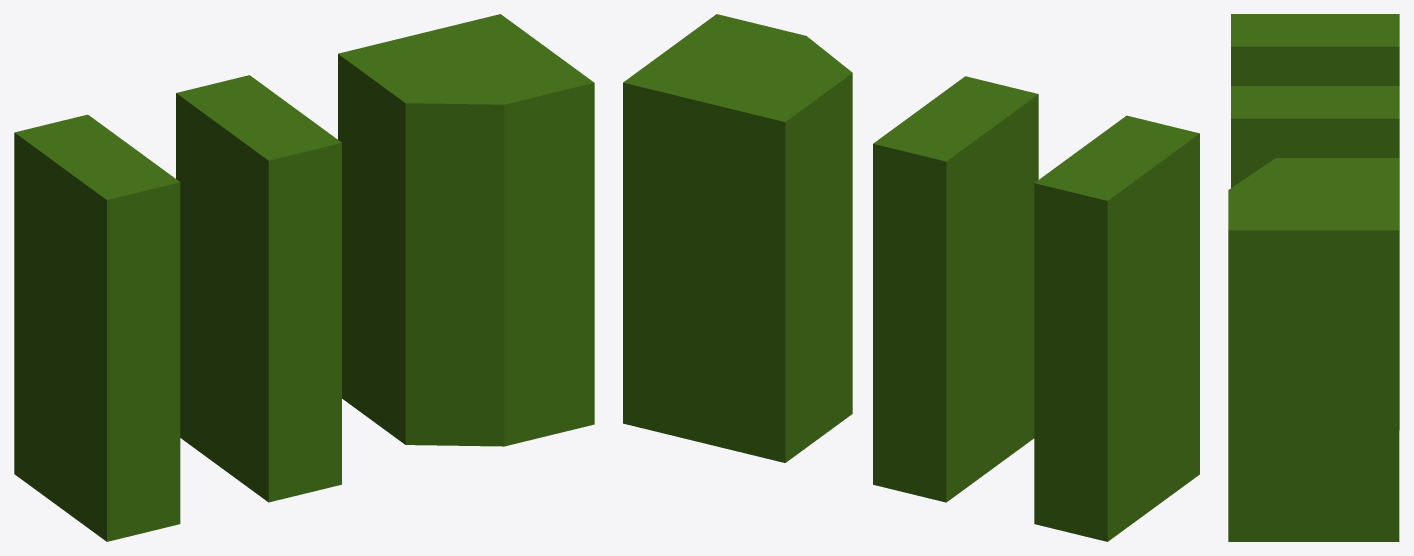
The model's file is B6 NE Mountain.obj.
The picture shows the model from 3 angles, left to right: view 1: azimuth 30°, elevation 25°; view 2: azimuth 150°, elevation 25°; view 3: azimuth 270°, elevation 25°; orthographic projection. The views are drawn at different scales.
Parts seen in each view (by area): view 1: Mesh2 B6_NE_Mountain1 Model, Mesh3 B6_NE_Mountain1 Model, Mesh1 B6_NE_Mountain1 Model; view 2: Mesh2 B6_NE_Mountain1 Model, Mesh3 B6_NE_Mountain1 Model, Mesh1 B6_NE_Mountain1 Model; view 3: Mesh2 B6_NE_Mountain1 Model, Mesh1 B6_NE_Mountain1 Model, Mesh3 B6_NE_Mountain1 Model.
Boxes of the visible parts, x1,y1,x2,y2 form: Mesh2 B6_NE_Mountain1 Model: [338, 14, 594, 446]; Mesh3 B6_NE_Mountain1 Model: [14, 114, 180, 541]; Mesh1 B6_NE_Mountain1 Model: [176, 75, 341, 502]; Mesh2 B6_NE_Mountain1 Model: [623, 14, 852, 462]; Mesh3 B6_NE_Mountain1 Model: [1034, 115, 1199, 541]; Mesh1 B6_NE_Mountain1 Model: [873, 76, 1038, 502]; Mesh2 B6_NE_Mountain1 Model: [1228, 158, 1399, 541]; Mesh1 B6_NE_Mountain1 Model: [1231, 86, 1399, 429]; Mesh3 B6_NE_Mountain1 Model: [1231, 14, 1399, 85].
Size of the model in its own units: 5.95 by 4 by 2.
